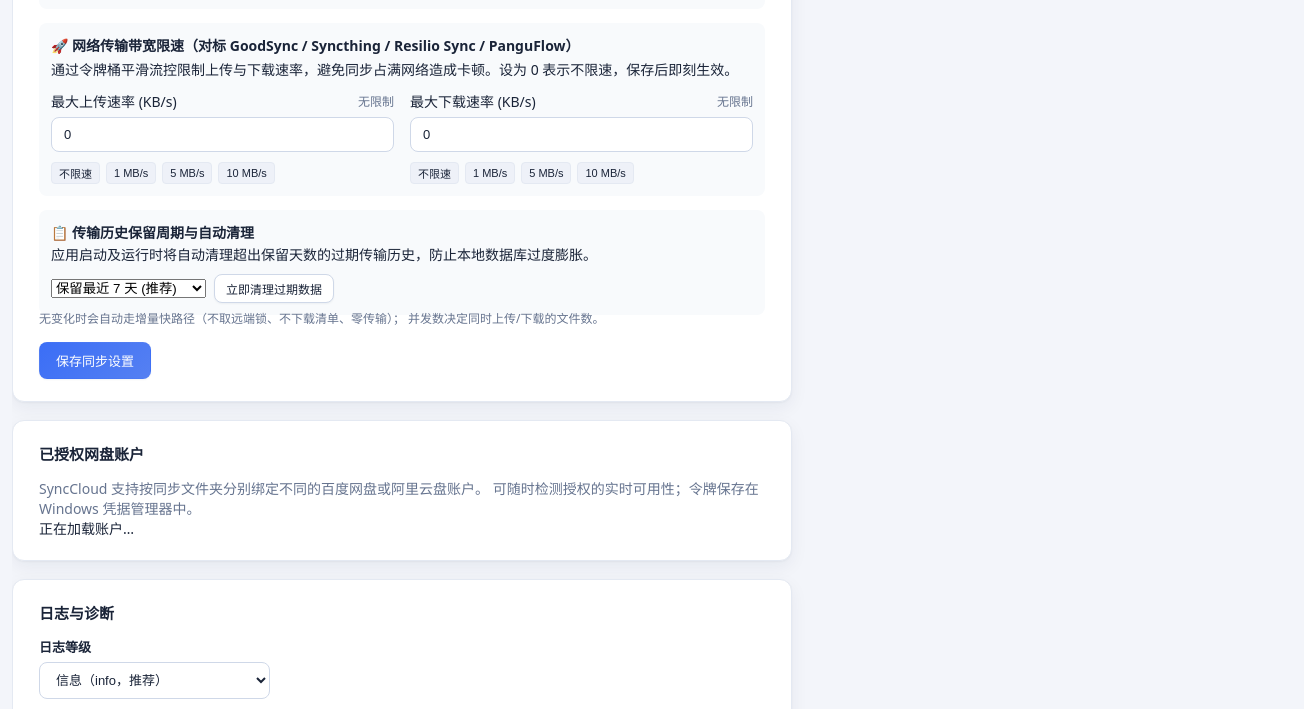
Test case: save errors are visible and zero retries are preserved
The width and height of the screenshot is (1304, 709).
(page scrolled)
Click the button "保存同步设置" at point(95, 361), box [39,342,151,379]
(page scrolled)
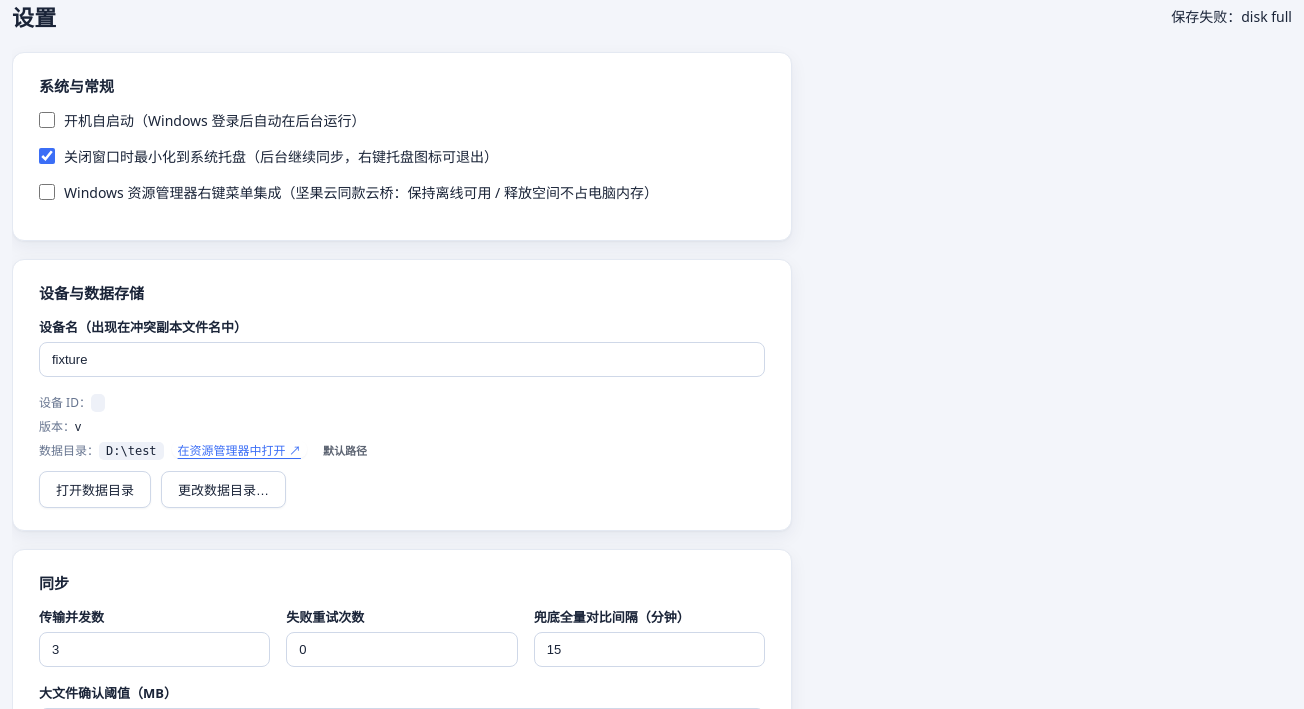
Result: the message shows "disk full" at [1171,7,1292,26]
